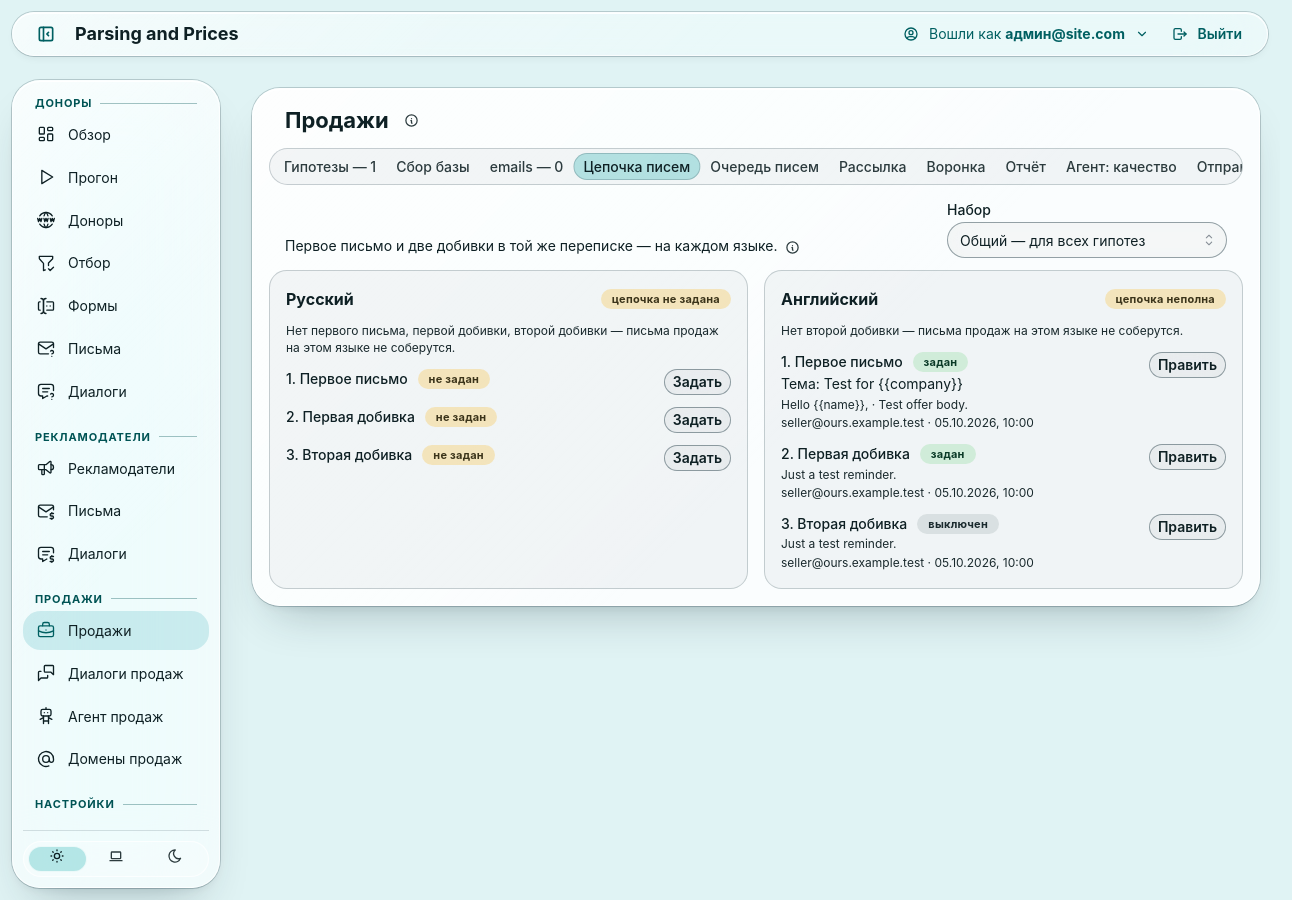
Test case: цепочка писем: языки и шаги › набор гипотезы — свой запрос; без своих шагов сказано, что действует общая цепочка
Expected: the heading "Английский" is shown, [781,287,878,311]
Click the field labelled "Набор".
click(1087, 240)  # box [947,222,1227,258]
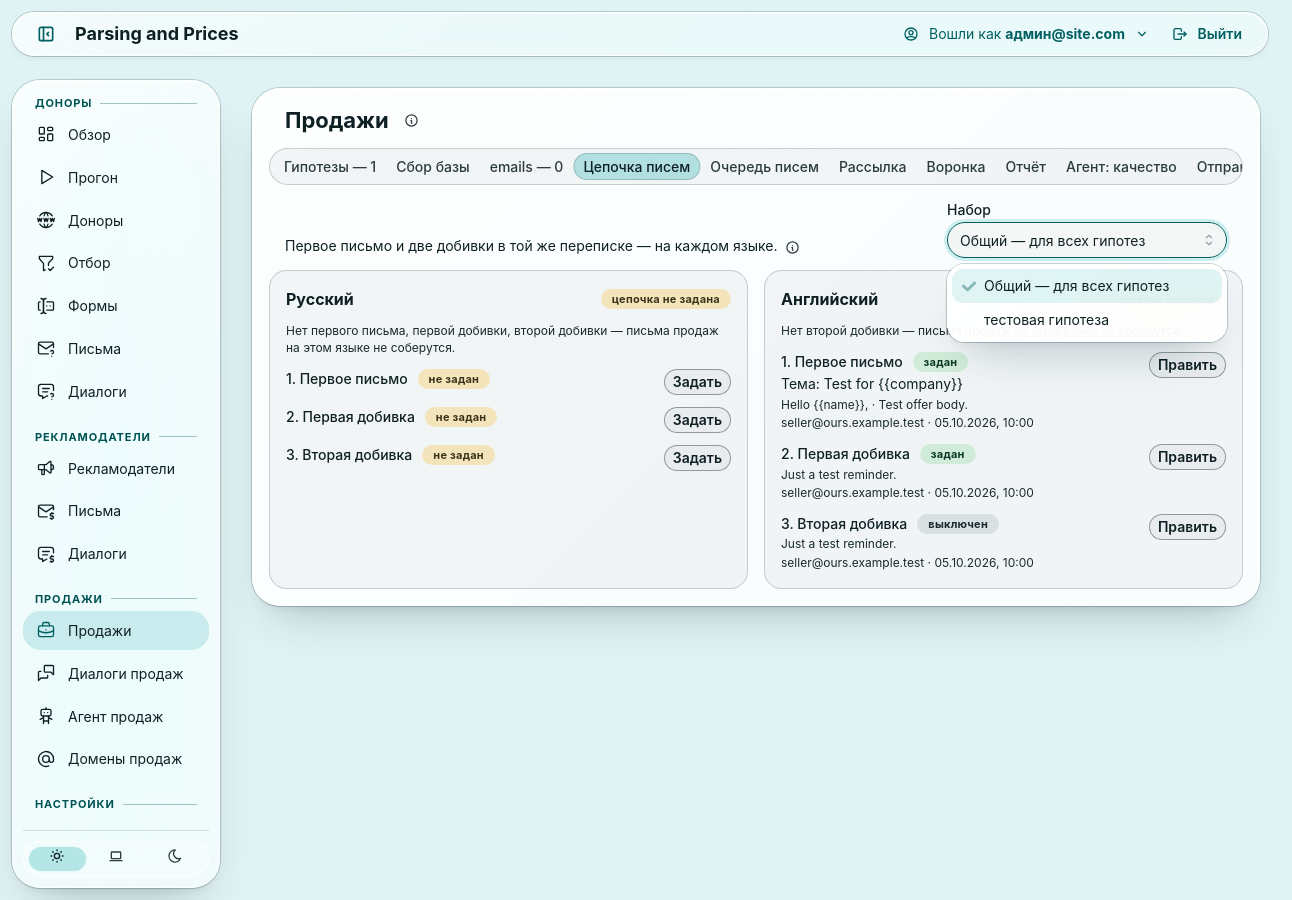
Click the option "тестовая гипотеза".
click(1047, 320)  # box [984,311,1109,328]
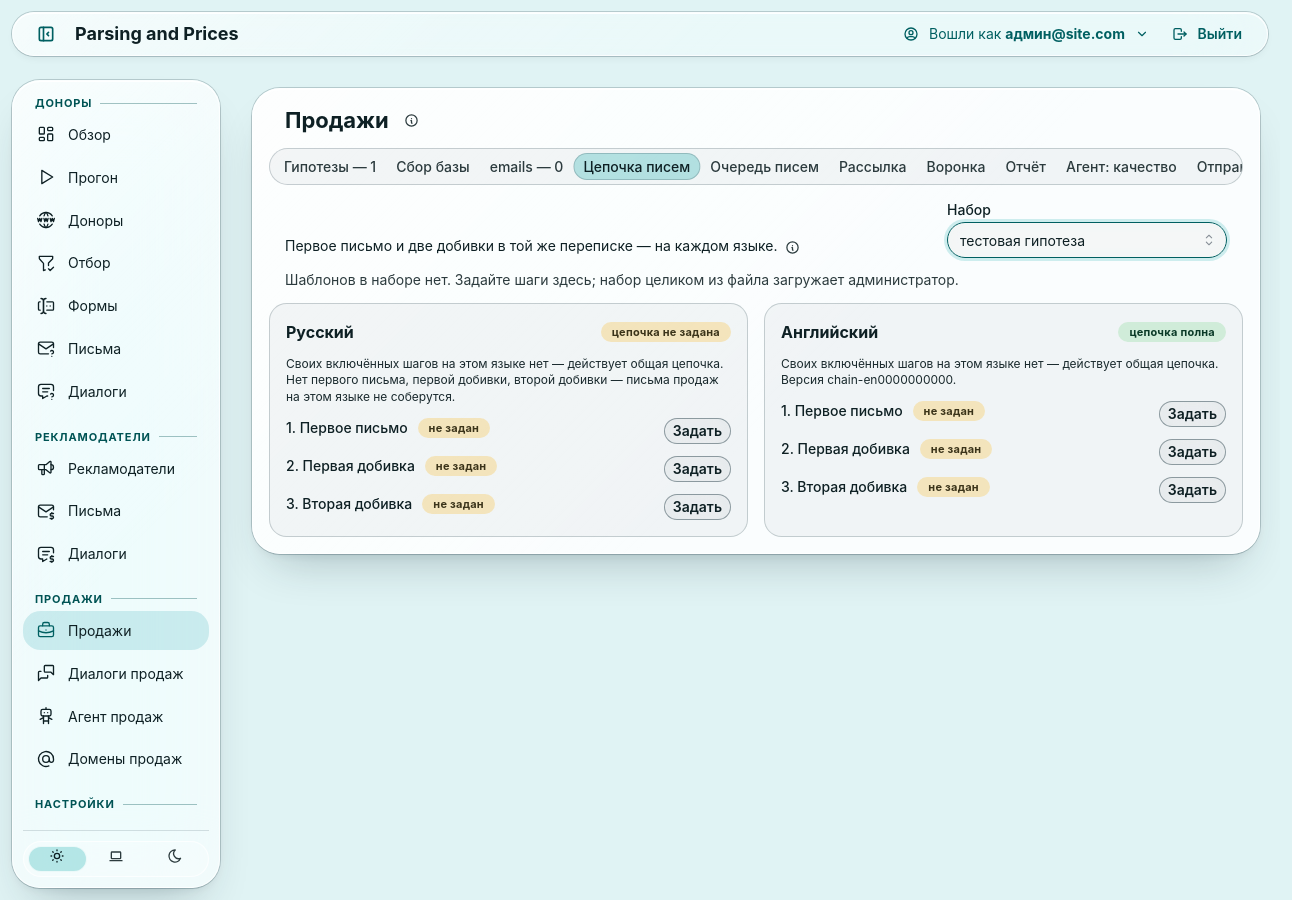
Expected: the text "не задан" is shown 3 times, [924,402,974,420]; [931,440,981,458]; [928,478,979,496]
Expected: the text "Своих включённых шагов на этом языке нет — действует общая цепочка. Версия chain-en0000000000." is shown, [781,356,1218,387]
